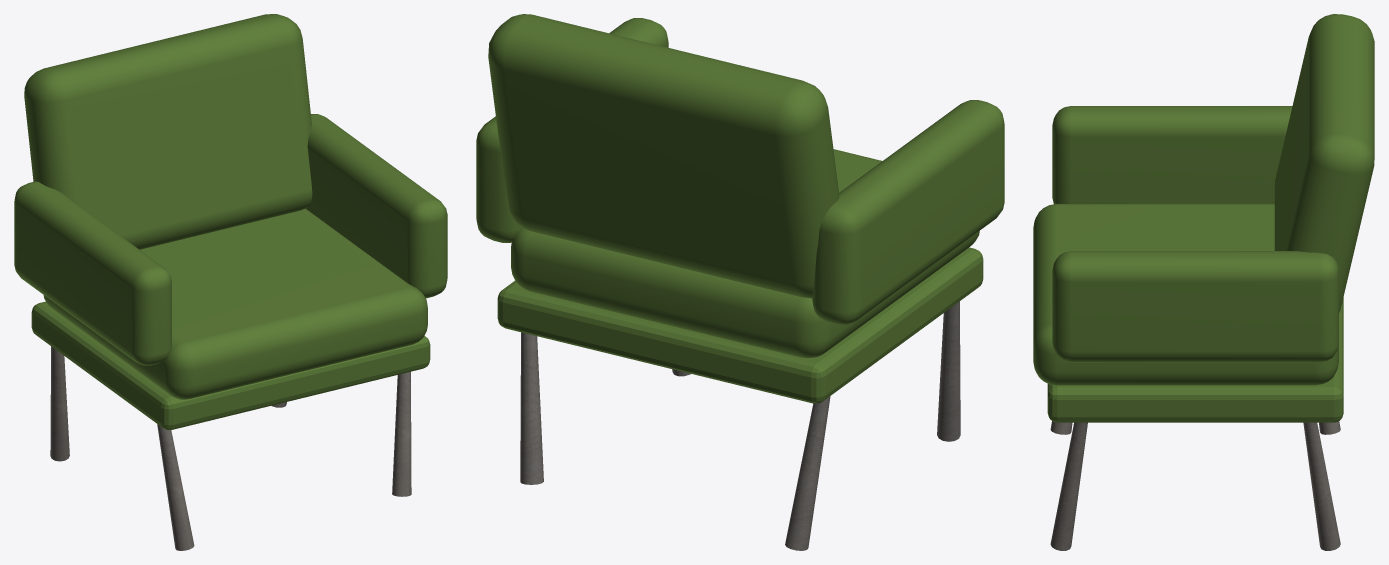
The model's file is hotel-accent-chair-green.glb.
3 views of the same model, side by side, from view 1: azimuth 30°, elevation 25°; view 2: azimuth 150°, elevation 25°; view 3: azimuth 270°, elevation 25° (orthographic). The views are drawn at different scales.
Visible parts, largest first — view 1: back, seat, arm.001, arm, apron, leg.002, leg, leg.001; view 2: back, arm.001, apron, seat, arm, leg.003, leg.001, leg; view 3: arm, arm.001, seat, back, apron, leg.002, leg.003.
Boxes of the visible parts, x1=… form: back: x1=24, y1=14, x2=312, y2=249; seat: x1=43, y1=209, x2=427, y2=399; arm.001: x1=14, y1=181, x2=171, y2=365; arm: x1=306, y1=114, x2=447, y2=298; apron: x1=31, y1=301, x2=430, y2=430; leg.002: x1=392, y1=371, x2=411, y2=496; leg: x1=157, y1=424, x2=194, y2=550; leg.001: x1=50, y1=346, x2=69, y2=461; back: x1=488, y1=14, x2=839, y2=298; arm.001: x1=812, y1=100, x2=1004, y2=324; apron: x1=497, y1=247, x2=983, y2=403; seat: x1=511, y1=149, x2=979, y2=357; arm: x1=476, y1=18, x2=668, y2=242; leg.003: x1=520, y1=332, x2=543, y2=484; leg.001: x1=785, y1=396, x2=830, y2=550; leg: x1=937, y1=301, x2=960, y2=441; arm: x1=1052, y1=251, x2=1338, y2=362; arm.001: x1=1052, y1=106, x2=1292, y2=204; seat: x1=1033, y1=204, x2=1338, y2=385; back: x1=1274, y1=14, x2=1374, y2=312; apron: x1=1047, y1=297, x2=1343, y2=422; leg.002: x1=1050, y1=422, x2=1087, y2=550; leg.003: x1=1303, y1=422, x2=1340, y2=550.
Size of the model in its own units: 0.82 by 0.9594 by 0.7148.
2 materials, 1 textured.
